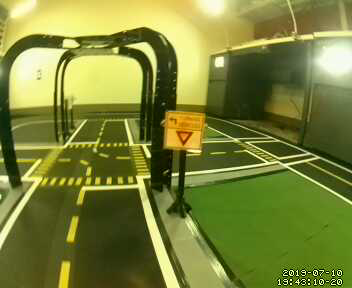Turn Yield: (163, 110, 205, 154)
